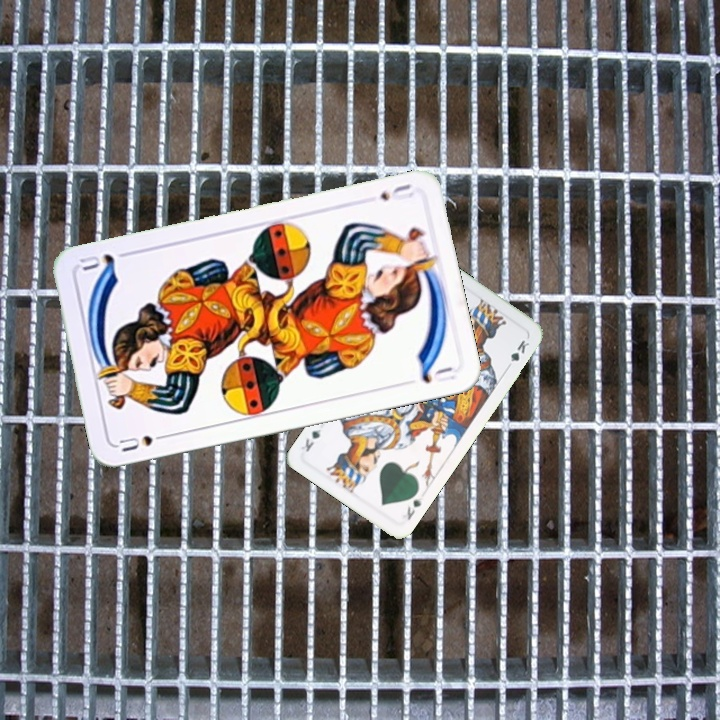GK: (402, 493, 425, 523)
SU: (115, 429, 173, 455), (376, 179, 416, 204)
